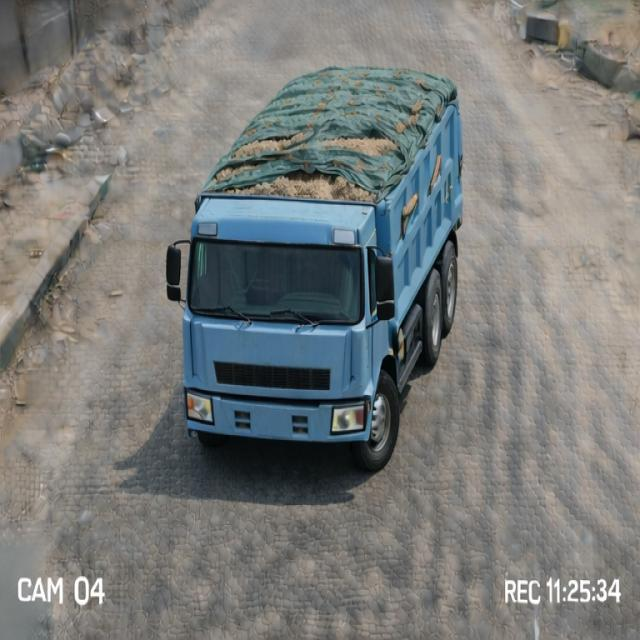Box: (184, 67, 456, 222)
Truck: (169, 48, 477, 454)
